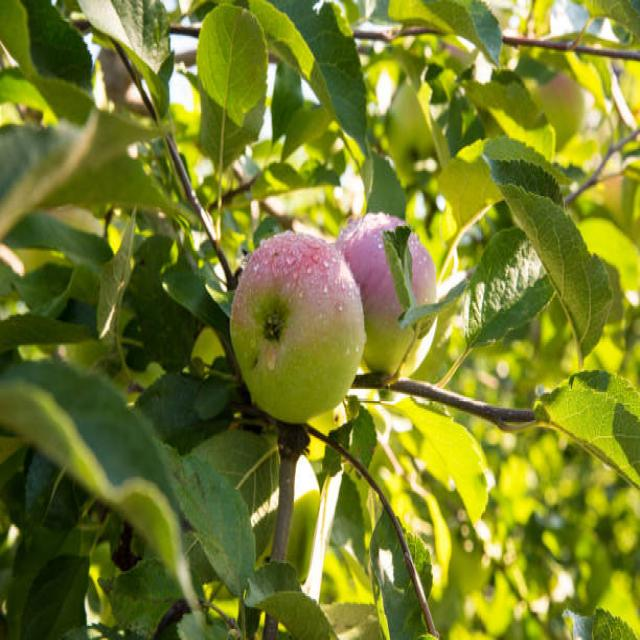Unripe: (230, 232, 366, 422)
